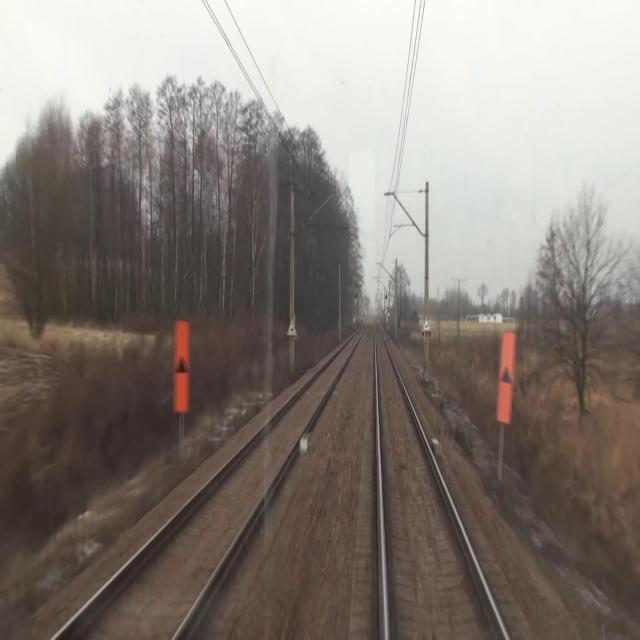rail-track: (58, 322, 366, 639), (376, 321, 505, 639)
